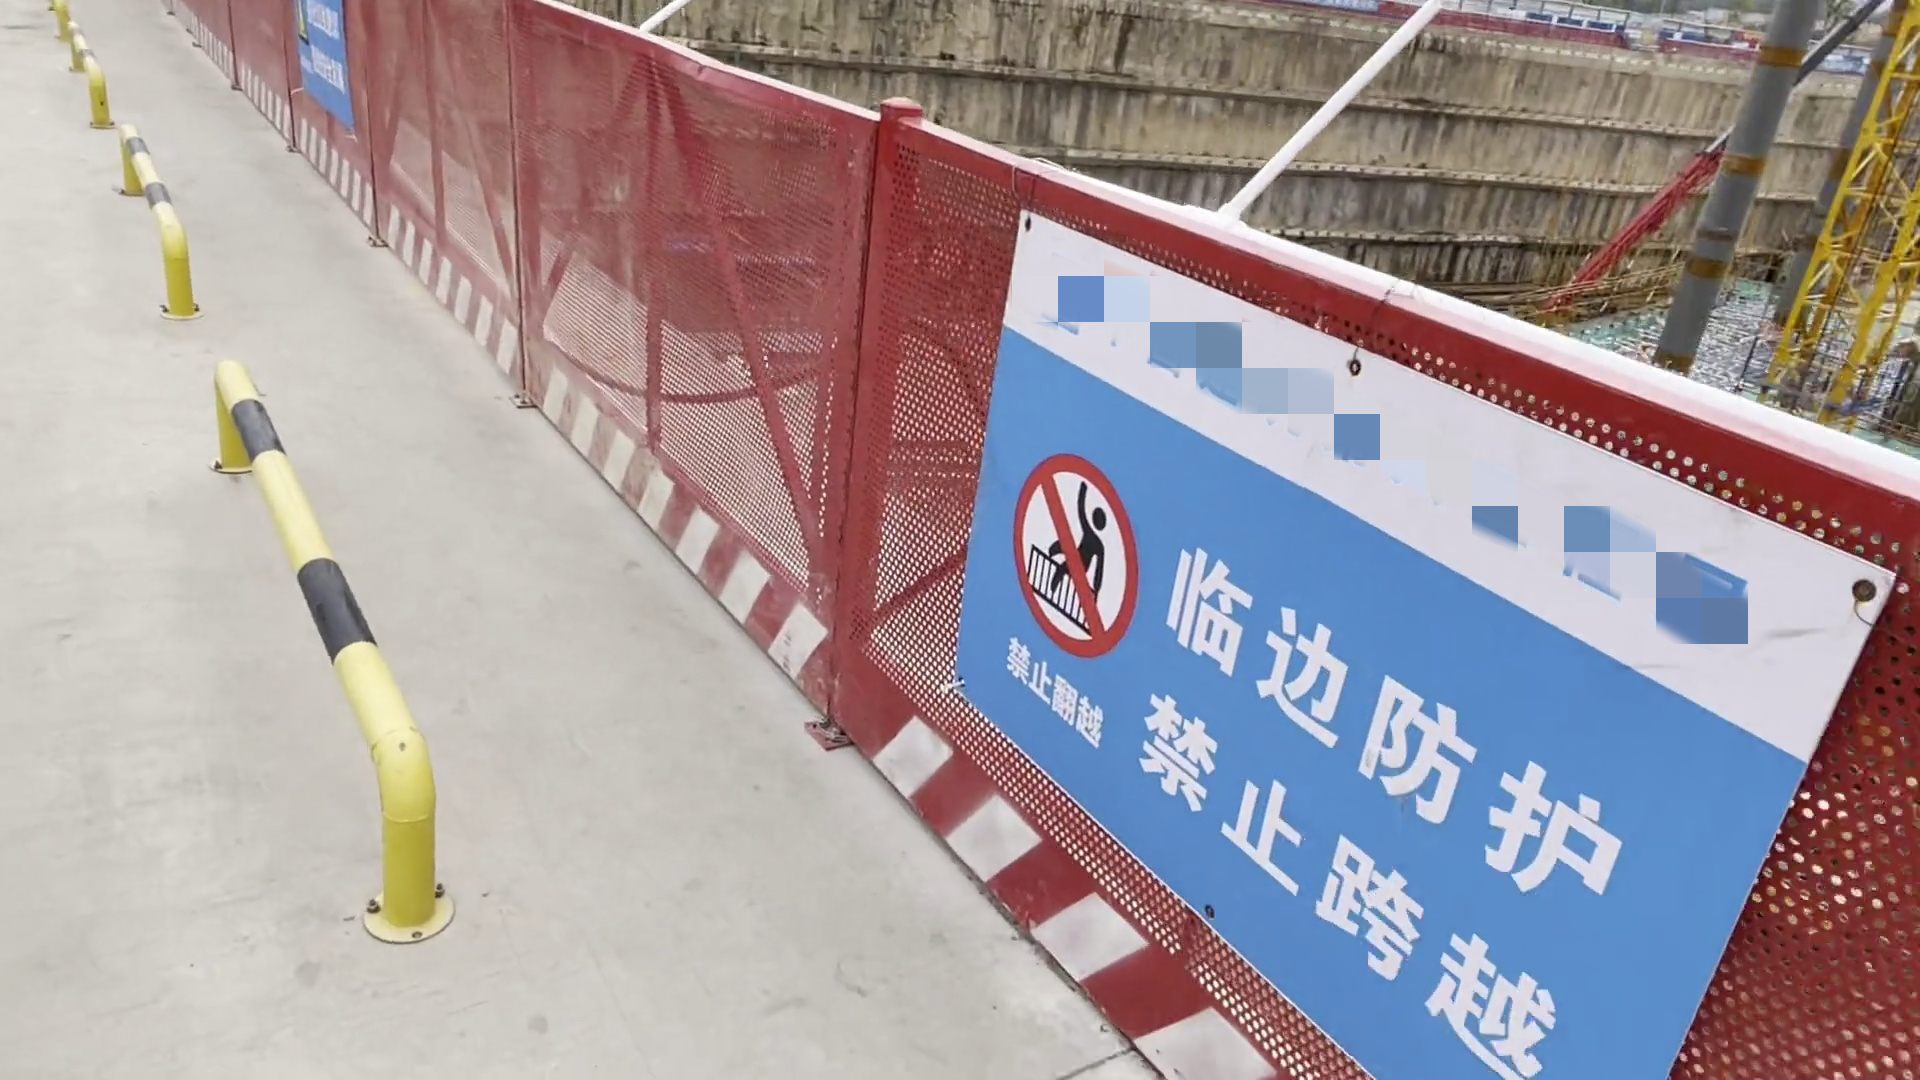fence: (473, 20, 1912, 1080)
slogan: (973, 212, 1799, 1080), (286, 3, 355, 133)
